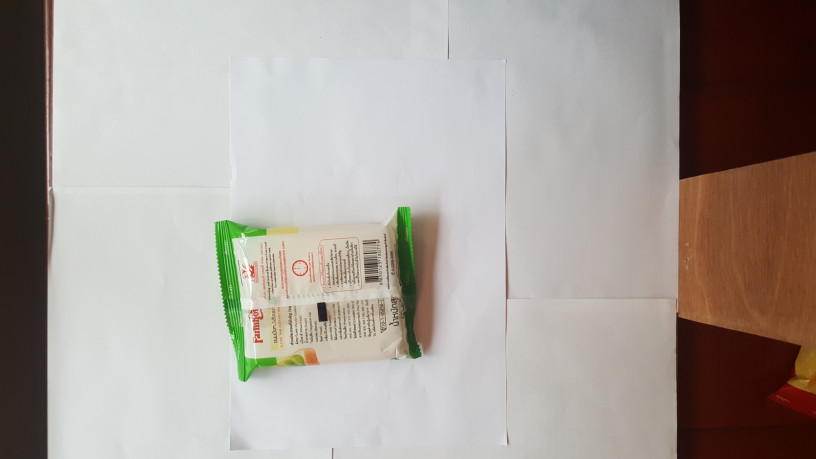farmhouse-bread-pandan: (203, 210, 436, 389)
